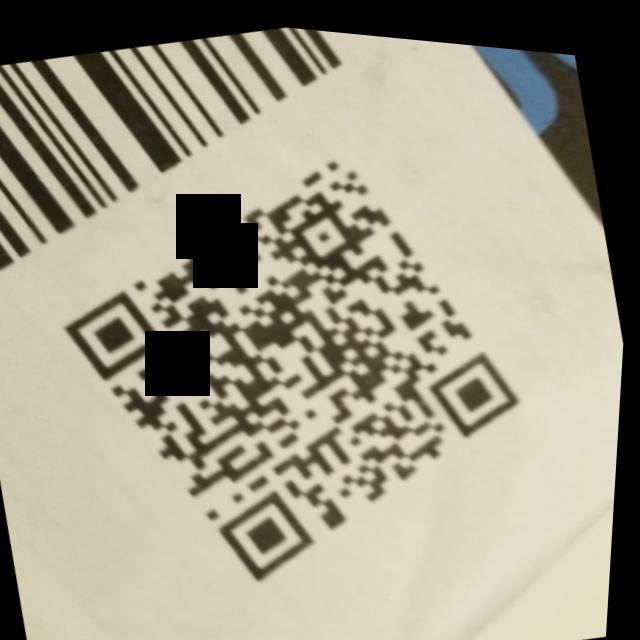QR_CODE: (4, 83, 589, 640)
